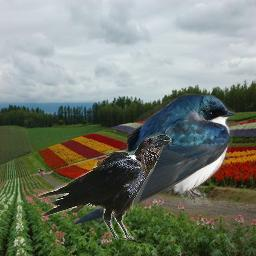Crow: (36, 134, 172, 240)
Swallow: (48, 93, 235, 228)
